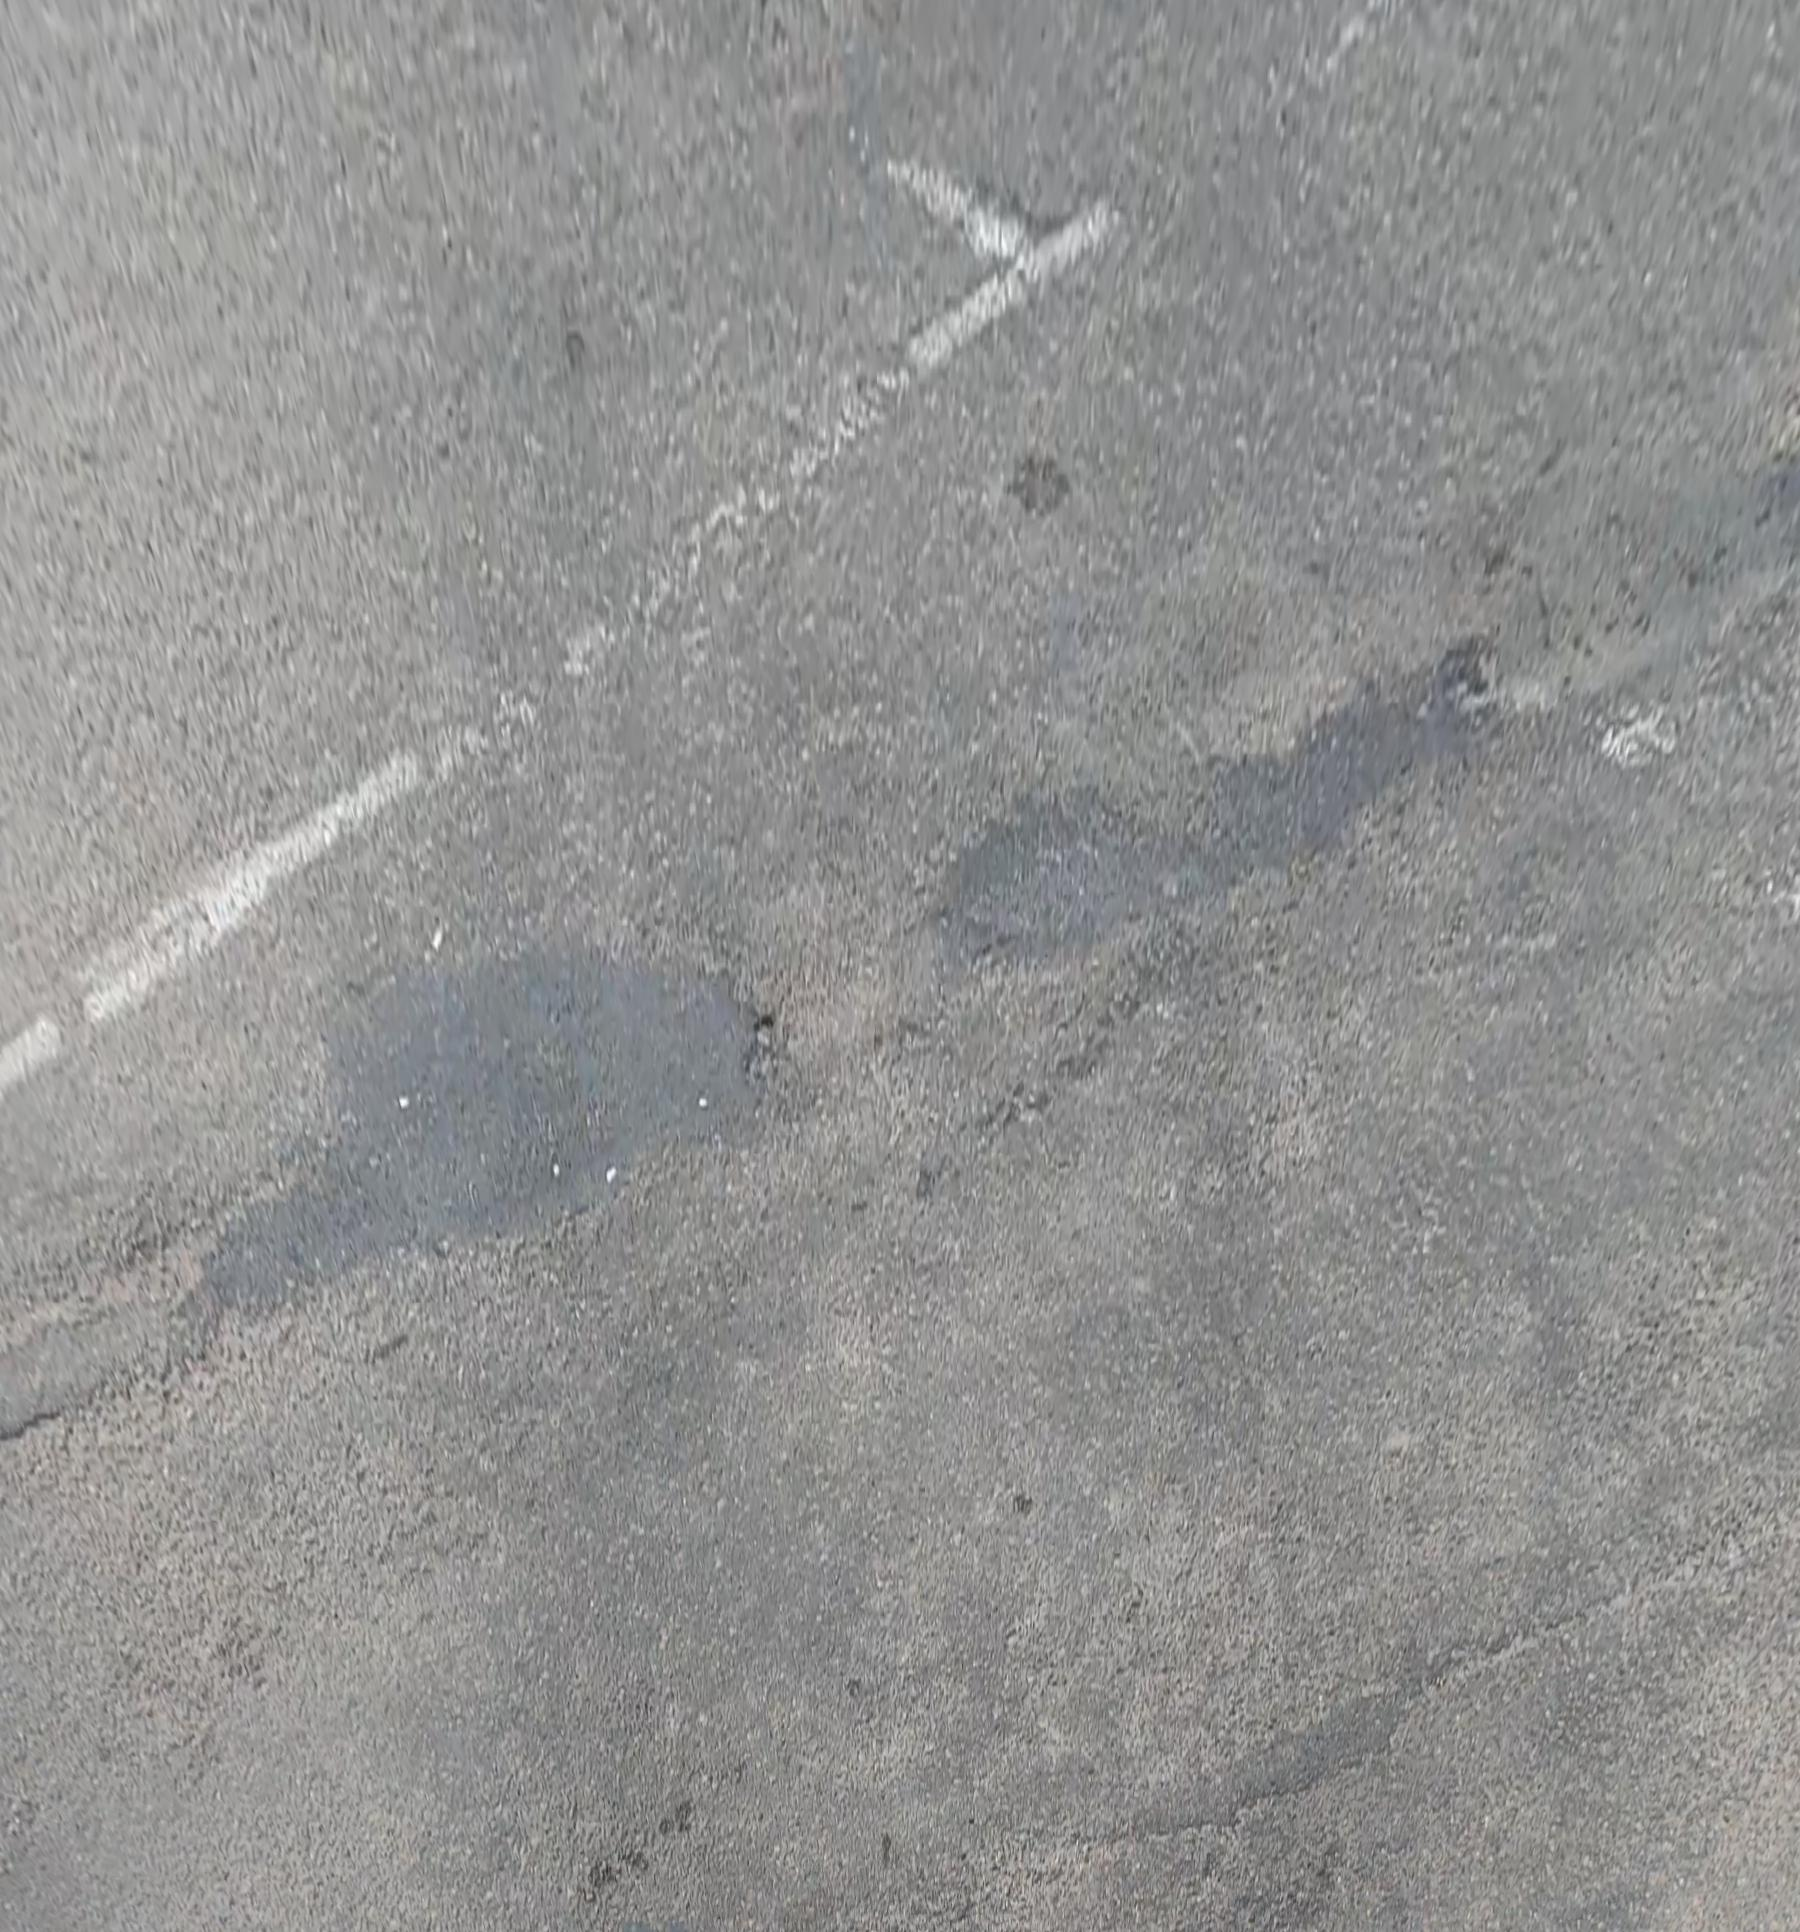pothole_patch_good: (205, 952, 755, 1304), (944, 650, 1511, 964)
